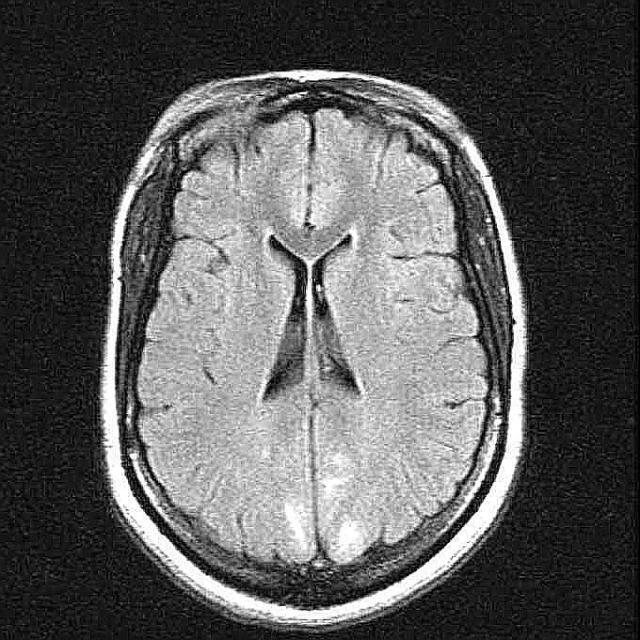notumor: (101, 72, 528, 633)
